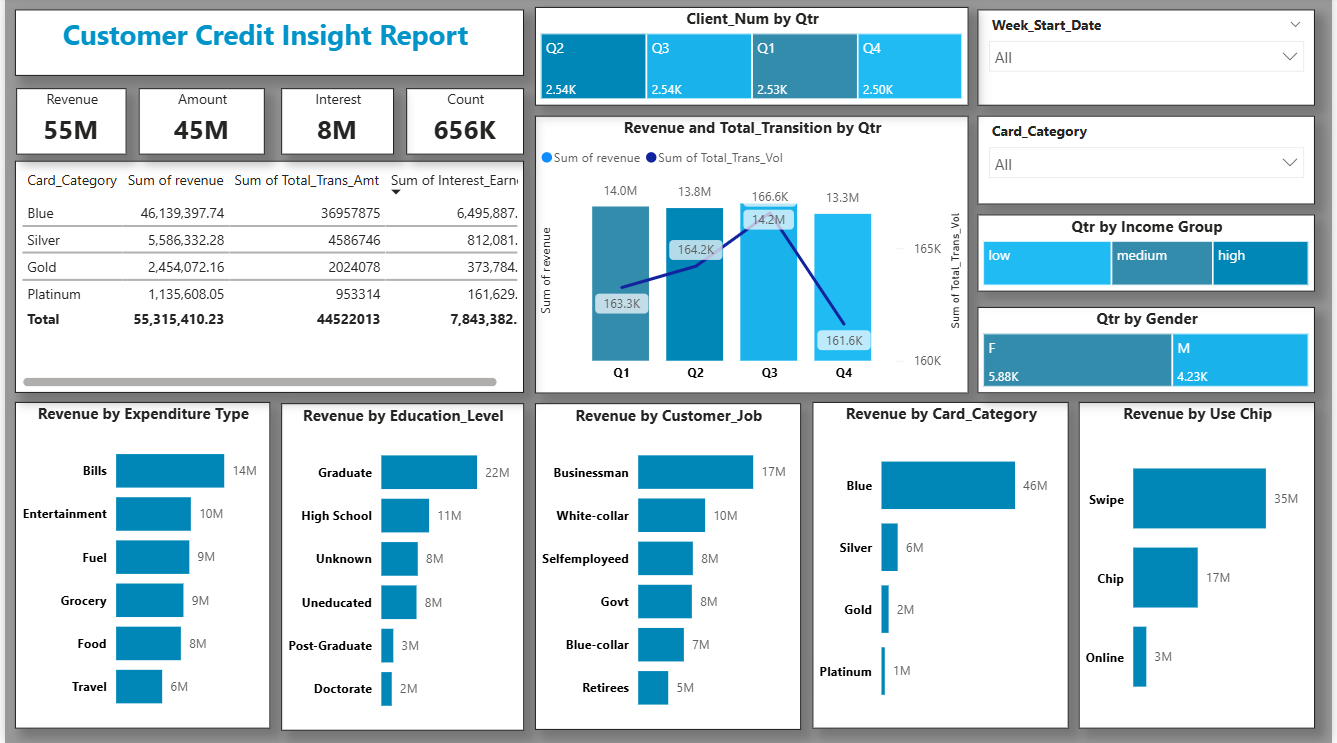

This screenshot's page, from the dashboard's own definition file:
{"tool":"powerbi","page":{"name":"CC_Transition","canvas":[1280,720],"ordinal":0},"visuals":[{"type":"textbox","box":[9.7,12.1,491,63.9],"z":0},{"type":"lineStackedColumnComboChart","title":"Revenue and Total_Transition by Qtr","fields":{"Category":["credit_card (2).Qtr"],"Y":["Sum(credit_card (2).revenue)"],"Y2":["Sum(credit_card (2).Total_Trans_Vol)"]},"box":[511.5,114.6,418.6,267.8],"z":1000},{"type":"barChart","title":"Revenue by Expenditure Type","fields":{"Y":["Sum(credit_card (2).revenue)"],"Category":["credit_card (2).Exp Type"]},"box":[9.7,390.9,246.1,314.9],"z":2000},{"type":"barChart","title":"Revenue by Education_Level","fields":{"Y":["Sum(credit_card (2).revenue)"],"Category":["customer.Education_Level"]},"box":[266.6,392.1,234,316.1],"z":3000},{"type":"barChart","title":"Revenue by Customer_Job","fields":{"Y":["Sum(credit_card (2).revenue)"],"Category":["customer.Customer_Job"]},"box":[511.5,392.1,257,314.9],"z":4000},{"type":"barChart","title":"Revenue by Card_Category","fields":{"Y":["Sum(credit_card (2).revenue)"],"Category":["credit_card (2).Card_Category"]},"box":[779.4,390.9,247.3,314.9],"z":5000},{"type":"barChart","title":"Revenue by Use Chip","fields":{"Y":["Sum(credit_card (2).revenue)"],"Category":["credit_card (2).Use Chip"]},"box":[1036.3,390.9,228,314.9],"z":6000},{"type":"tableEx","fields":{"Values":["credit_card (2).Card_Category","Sum(credit_card (2).revenue)","credit_card (2).Total_Trans_Amt","Sum(credit_card (2).Interest_Earned)"]},"box":[9.7,158,491,224.4],"z":7000},{"type":"card","title":"Revenue","fields":{"Values":["Sum(credit_card (2).revenue)"]},"box":[10.9,88.1,106.2,63.9],"z":8000},{"type":"card","title":"Amount","fields":{"Values":["Sum(credit_card (2).Total_Trans_Amt)"]},"box":[129.1,88.1,121.9,63.9],"z":9000},{"type":"card","title":"Count","fields":{"Values":["Sum(credit_card (2).Total_Trans_Vol)"]},"box":[387.3,88.1,113.4,63.9],"z":10000},{"type":"card","title":"Interest","fields":{"Values":["Sum(credit_card (2).Interest_Earned)"]},"box":[266.6,88.1,108.6,63.9],"z":11000},{"type":"slicer","fields":{"Values":["credit_card (2).Week_Start_Date"]},"box":[938.6,12.1,325.7,92.9],"z":12000},{"type":"treemap","title":"Qtr by Gender","fields":{"Group":["customer.Gender"],"Values":["CountNonNull(credit_card (2).Qtr)"]},"box":[938.6,299.2,325.7,83.2],"z":13000},{"type":"slicer","fields":{"Values":["credit_card (2).Card_Category"]},"box":[938.6,114.6,325.7,85.7],"z":14000},{"type":"treemap","title":"Qtr by Income Group","fields":{"Group":["customer.Income Group"],"Values":["CountNonNull(credit_card (2).Qtr)"]},"box":[938.6,209.9,325.7,74.8],"z":15000},{"type":"treemap","title":"Client_Num by Qtr","fields":{"Group":["credit_card (2).Qtr"],"Values":["CountNonNull(credit_card (2).Client_Num)"]},"box":[511.5,9.7,418.6,95.3],"z":16000}]}

Visuals, with their boxes in screenshot pixels (x1, y1, x2, y2), scaled from the page's 1280x720 canvas onto the 1337x743 screenshot:
textbox: left=10, top=12, right=523, bottom=78
"Revenue and Total_Transition by Qtr" lineStackedColumnComboChart: left=534, top=118, right=972, bottom=395
"Revenue by Expenditure Type" barChart: left=10, top=403, right=267, bottom=728
"Revenue by Education_Level" barChart: left=278, top=405, right=523, bottom=731
"Revenue by Customer_Job" barChart: left=534, top=405, right=803, bottom=730
"Revenue by Card_Category" barChart: left=814, top=403, right=1072, bottom=728
"Revenue by Use Chip" barChart: left=1082, top=403, right=1321, bottom=728
tableEx - credit_card (2).Card_Category x Sum(credit_card (2).revenue): left=10, top=163, right=523, bottom=395
"Revenue" card: left=11, top=91, right=122, bottom=157
"Amount" card: left=135, top=91, right=262, bottom=157
"Count" card: left=405, top=91, right=523, bottom=157
"Interest" card: left=278, top=91, right=392, bottom=157
slicer - credit_card (2).Week_Start_Date: left=980, top=12, right=1321, bottom=108
"Qtr by Gender" treemap: left=980, top=309, right=1321, bottom=395
slicer - credit_card (2).Card_Category: left=980, top=118, right=1321, bottom=207
"Qtr by Income Group" treemap: left=980, top=217, right=1321, bottom=294
"Client_Num by Qtr" treemap: left=534, top=10, right=972, bottom=108
